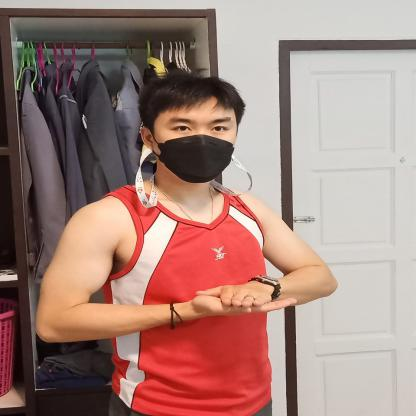Love: (150, 262, 342, 328)
